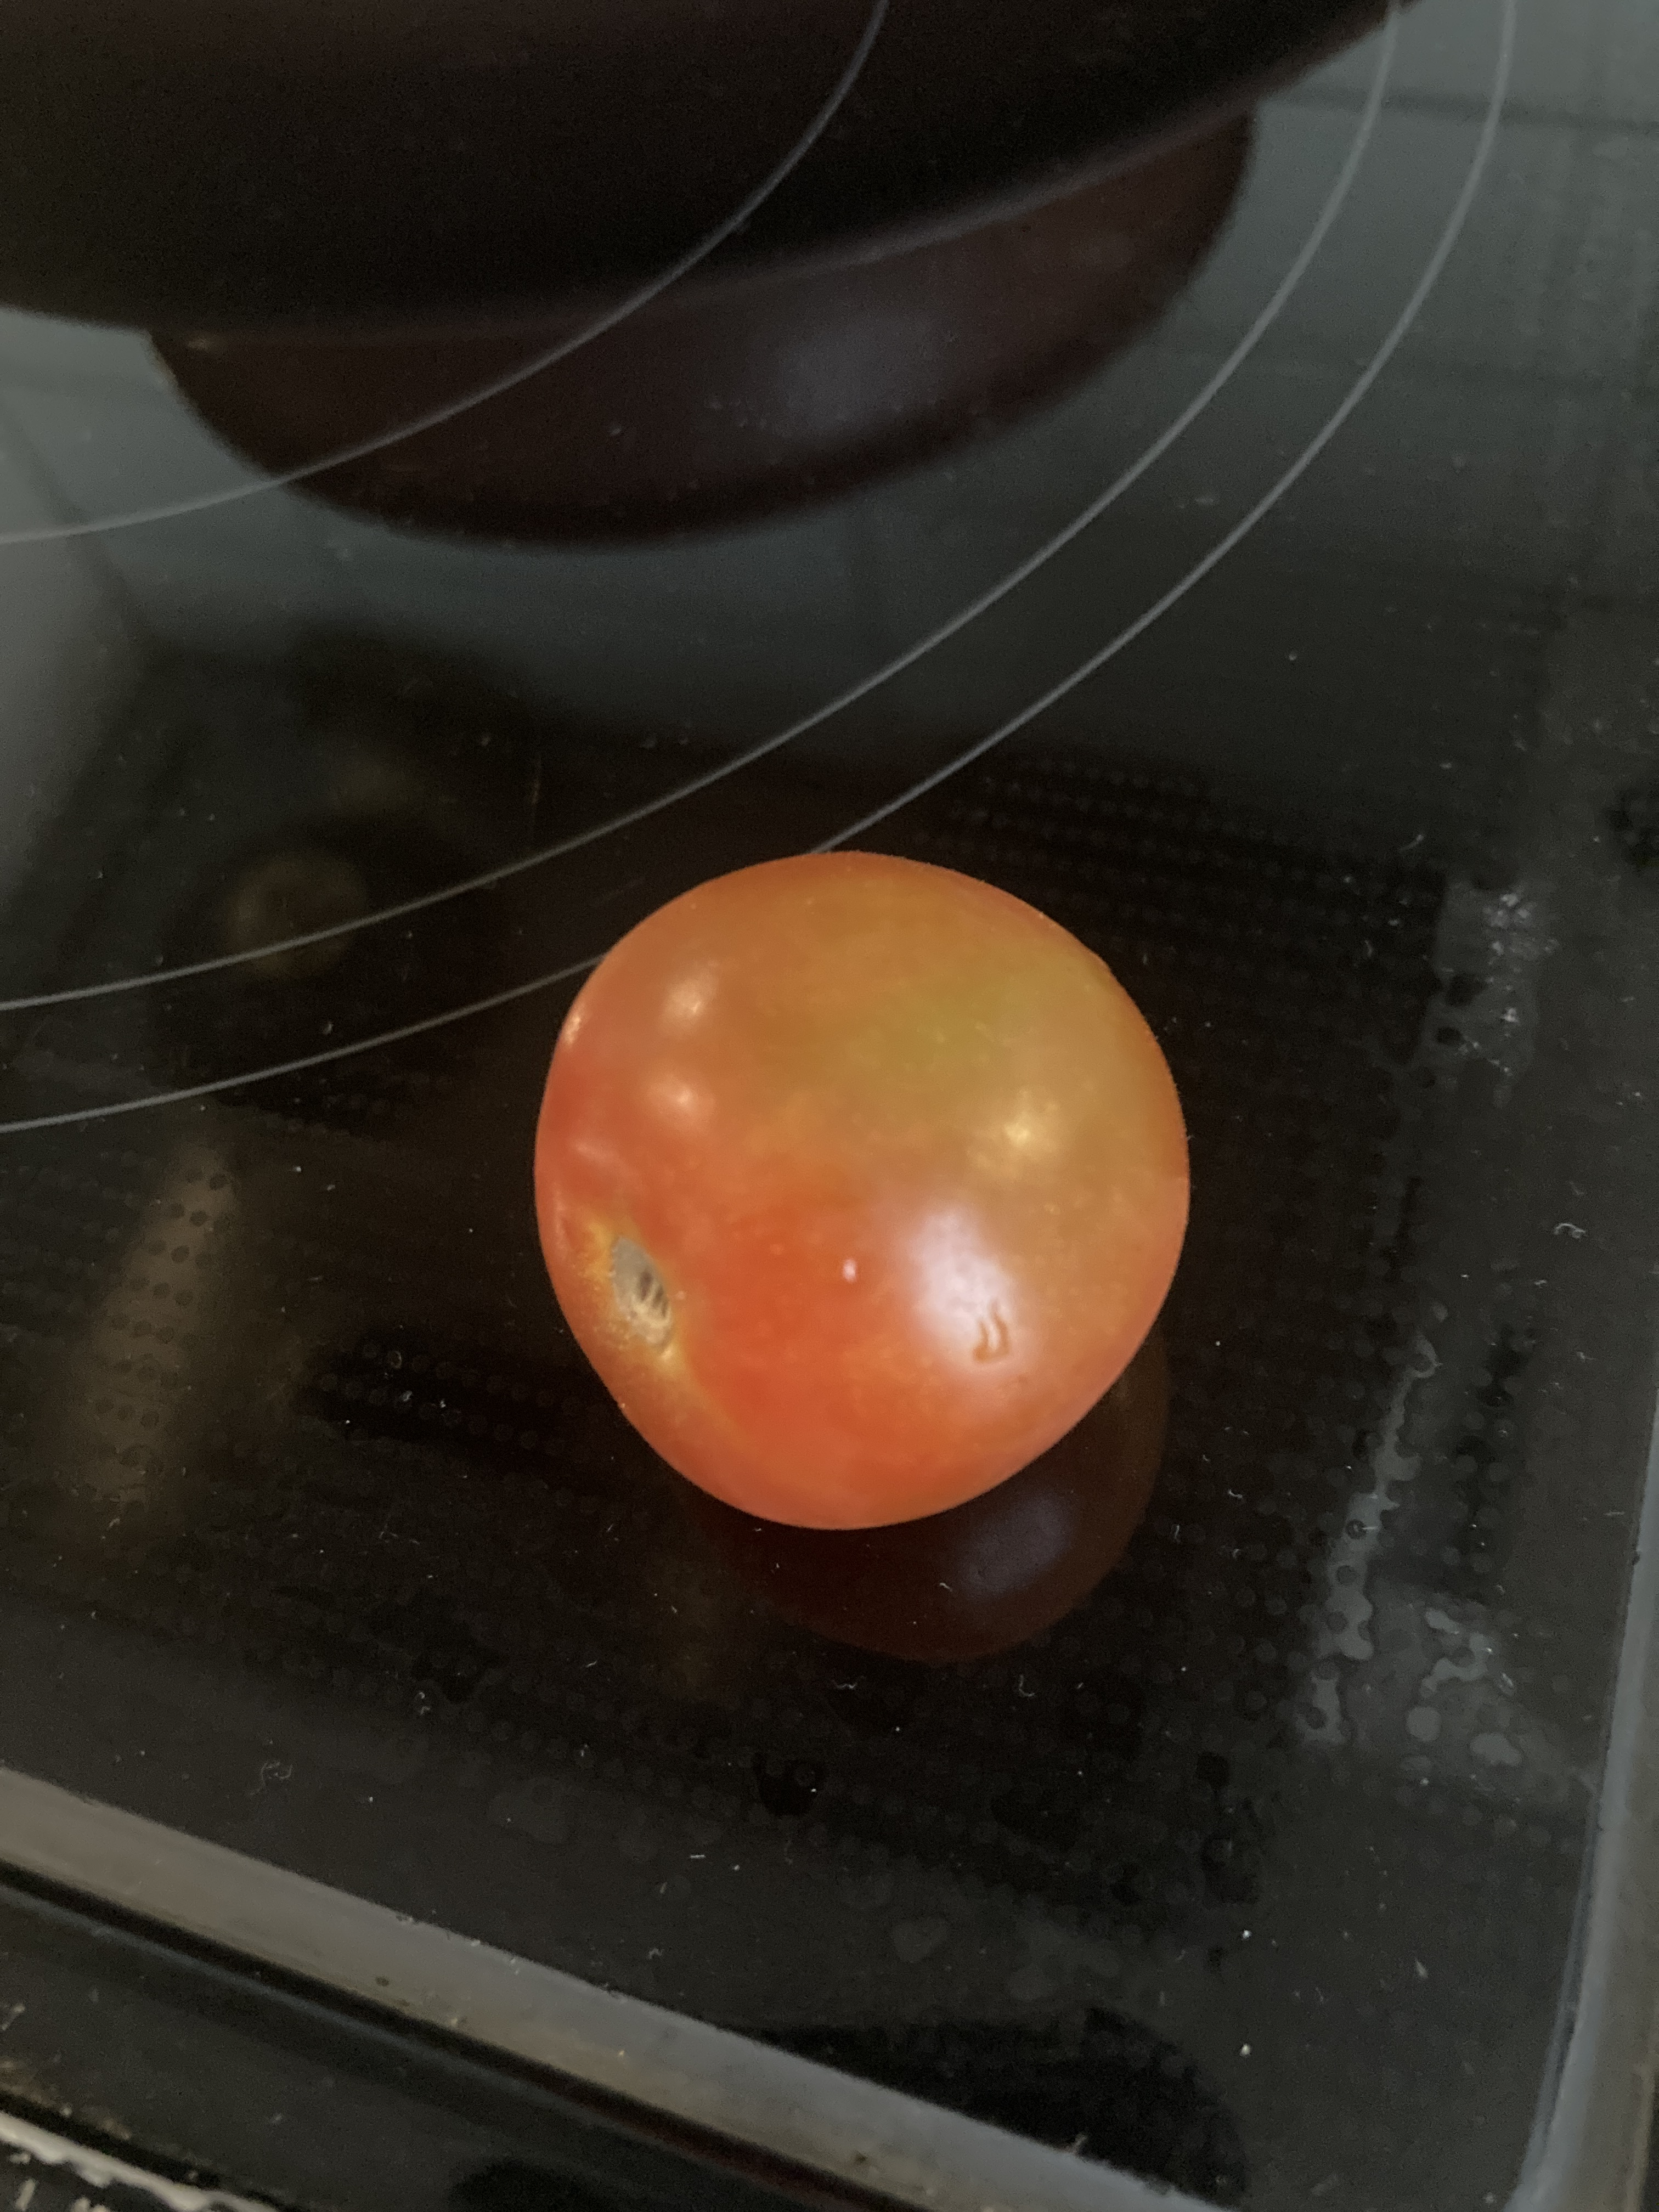healthy-tomato: (523, 846, 1195, 1536)
